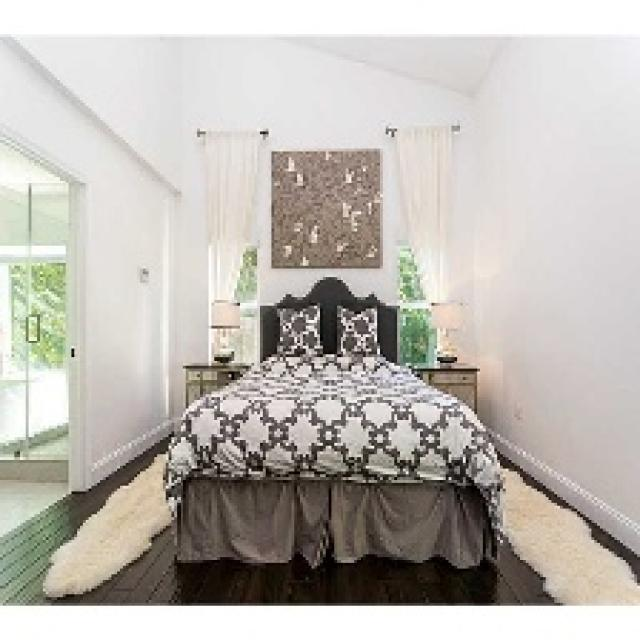Bed: (163, 274, 503, 569)
